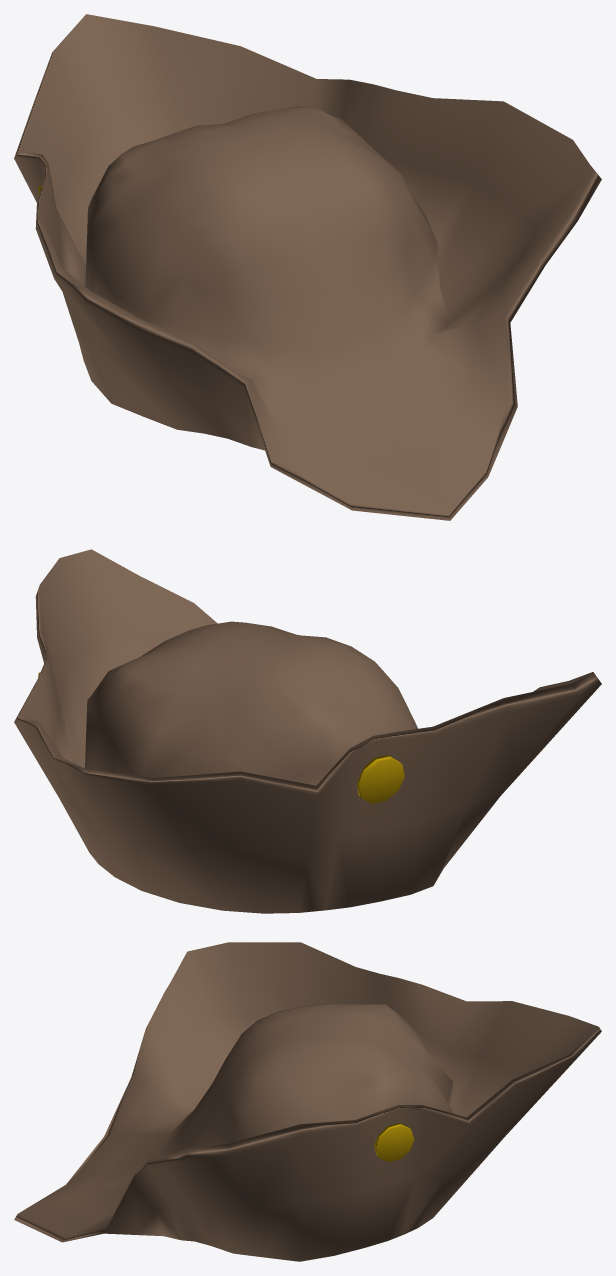
File: 1sombrero pirata.glb
3 views of the same model, one above another, from view 1: azimuth 30°, elevation 25°; view 2: azimuth 150°, elevation 25°; view 3: azimuth 270°, elevation 25° (orthographic). The views are drawn at different scales.
Parts seen in each view (by area): view 1: Sombrero_Pirata_Sombrero_Pirata_0; view 2: Sombrero_Pirata_Sombrero_Pirata_0; view 3: Sombrero_Pirata_Sombrero_Pirata_0.
Boxes of the visible parts, x1,y1,x2,y2 form: Sombrero_Pirata_Sombrero_Pirata_0: (14, 14, 601, 520); Sombrero_Pirata_Sombrero_Pirata_0: (14, 549, 601, 913); Sombrero_Pirata_Sombrero_Pirata_0: (14, 942, 601, 1261).
Size of the model in its own units: 0.3113 by 0.1377 by 0.376.
